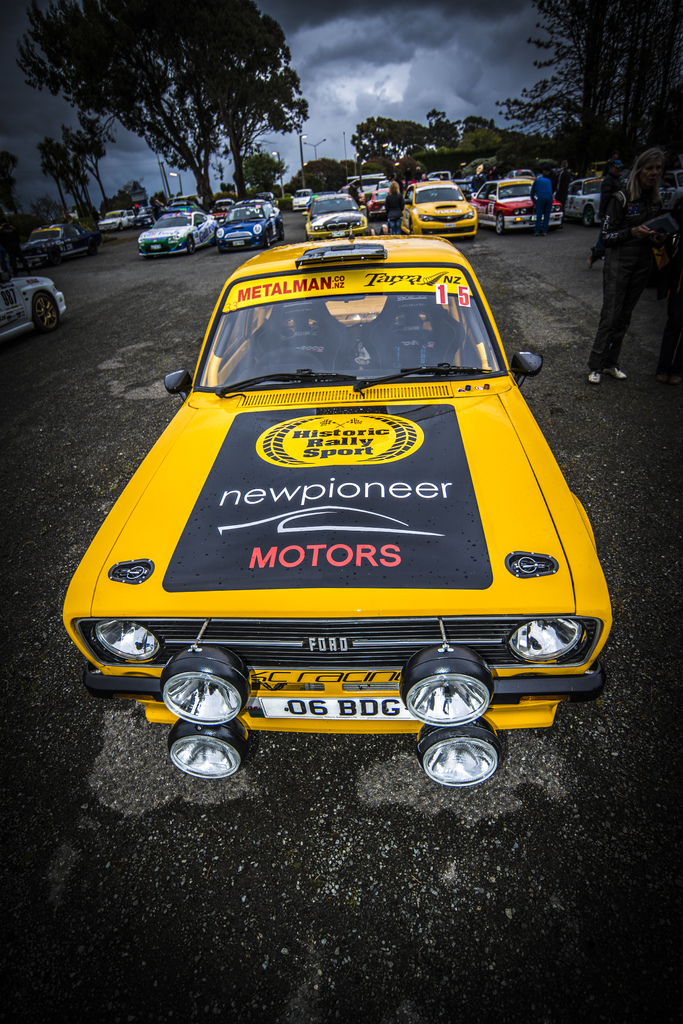Car: (0, 167, 682, 777)
